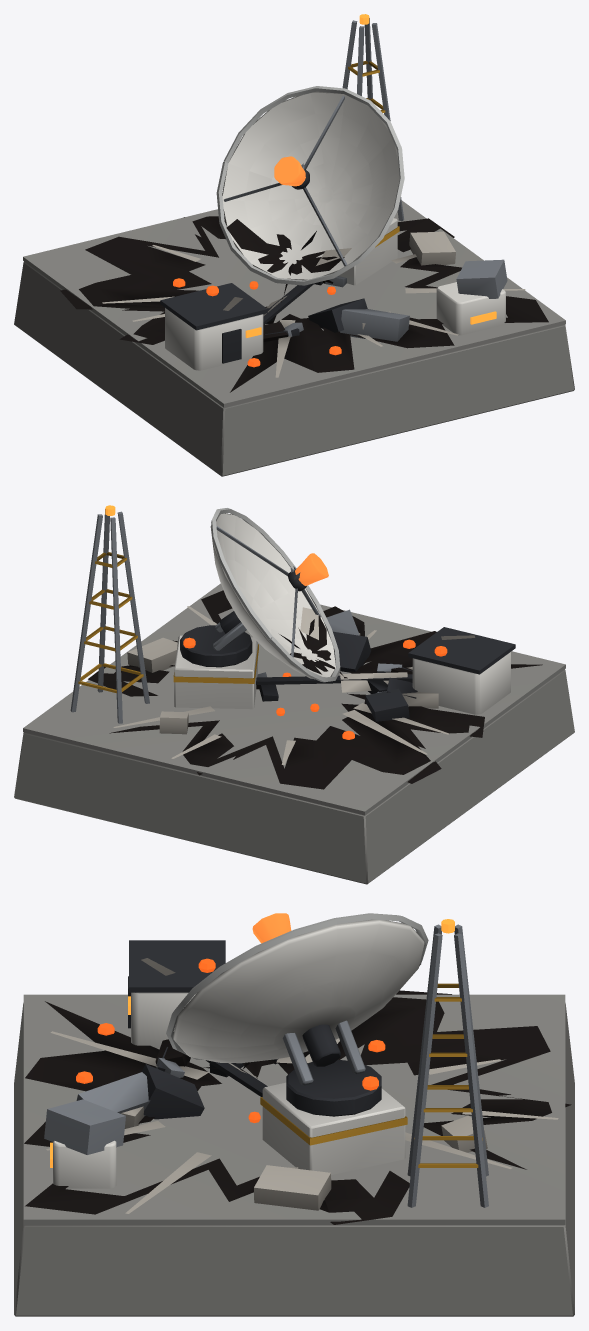
Rendered from relay-station-luna.glb.
3 renders of one model, top to bottom at view 1: azimuth 30°, elevation 25°; view 2: azimuth 150°, elevation 25°; view 3: azimuth 270°, elevation 25°, orthographic. The views are drawn at different scales.
Visible parts, largest first — view 1: site_relay_station_luna_body, site_relay_station_luna_ruin, site_relay_station_luna_core; view 2: site_relay_station_luna_body, site_relay_station_luna_ruin, site_relay_station_luna_core; view 3: site_relay_station_luna_body, site_relay_station_luna_ruin, site_relay_station_luna_core.
Boxes of the visible parts, x1,y1,x2,y2 form: site_relay_station_luna_body: (14, 14, 574, 476); site_relay_station_luna_ruin: (60, 163, 548, 392); site_relay_station_luna_core: (274, 156, 309, 189); site_relay_station_luna_body: (14, 505, 574, 884); site_relay_station_luna_ruin: (88, 566, 542, 789); site_relay_station_luna_core: (288, 553, 328, 591); site_relay_station_luna_body: (14, 913, 574, 1316); site_relay_station_luna_ruin: (24, 958, 571, 1224); site_relay_station_luna_core: (252, 913, 291, 943).
Bounding box in the file's own units: 5.73 × 4.1 × 5.75.
